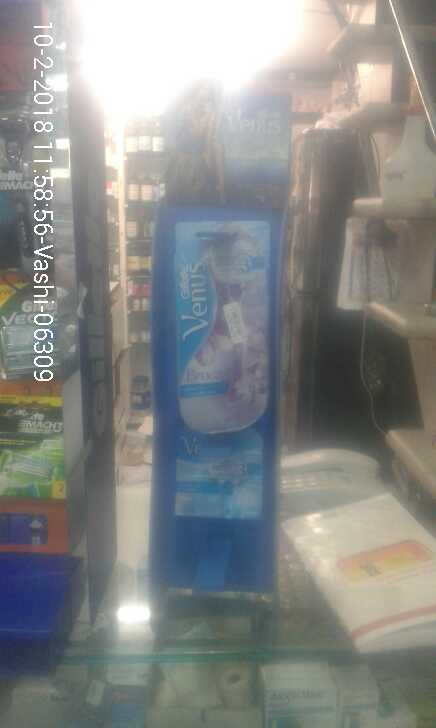reject: (118, 99, 241, 269)
